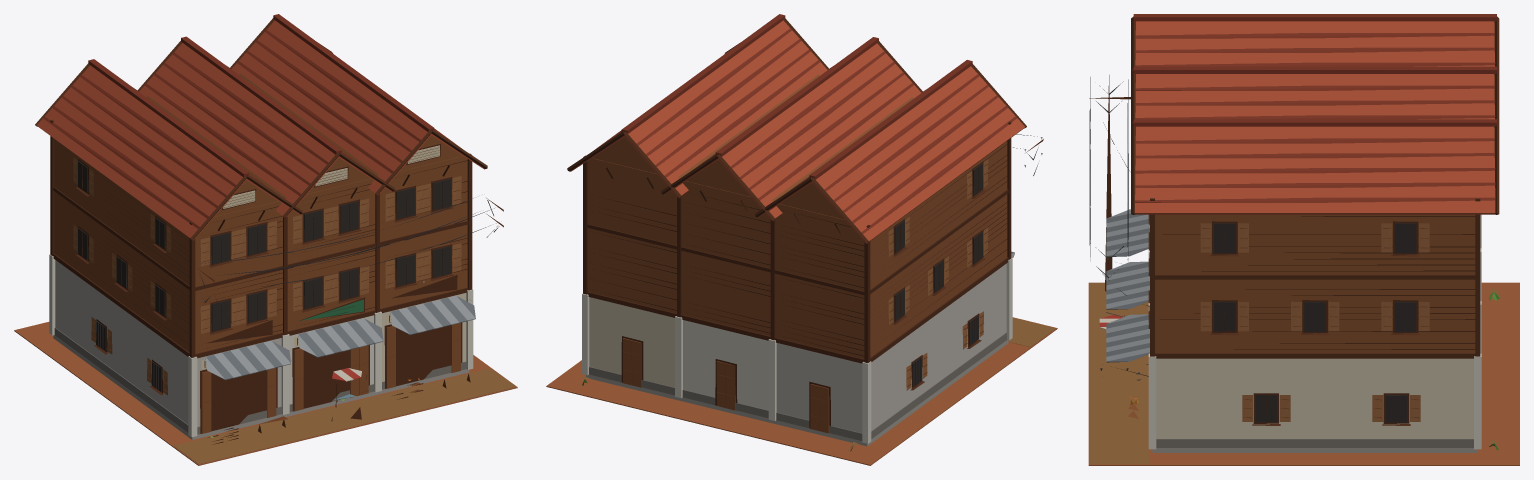
File: shop_4.glb
The picture shows the model from 3 angles, left to right: view 1: azimuth 30°, elevation 25°; view 2: azimuth 150°, elevation 25°; view 3: azimuth 270°, elevation 25°; orthographic projection. The views are drawn at different scales.
Parts seen in each view (by area): view 1: body, windows; view 2: body, windows; view 3: body, windows.
Boxes of the visible parts, box(x1,y1,x2,y2) form: body: box(14, 14, 517, 465); windows: box(78, 161, 451, 391); body: box(546, 14, 1057, 465); windows: box(894, 163, 983, 386); body: box(1088, 14, 1519, 465); windows: box(1214, 223, 1416, 422).
Size of the model in its own units: 15.9 by 12.82 by 16.
